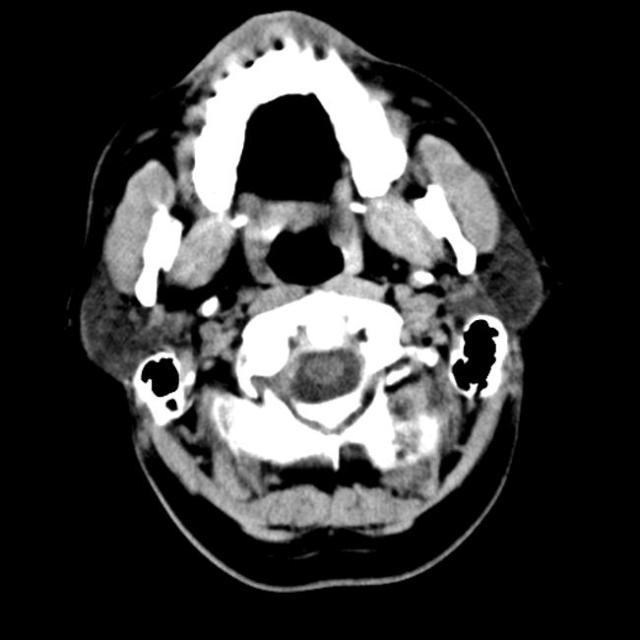lesion: (72, 11, 552, 573)
